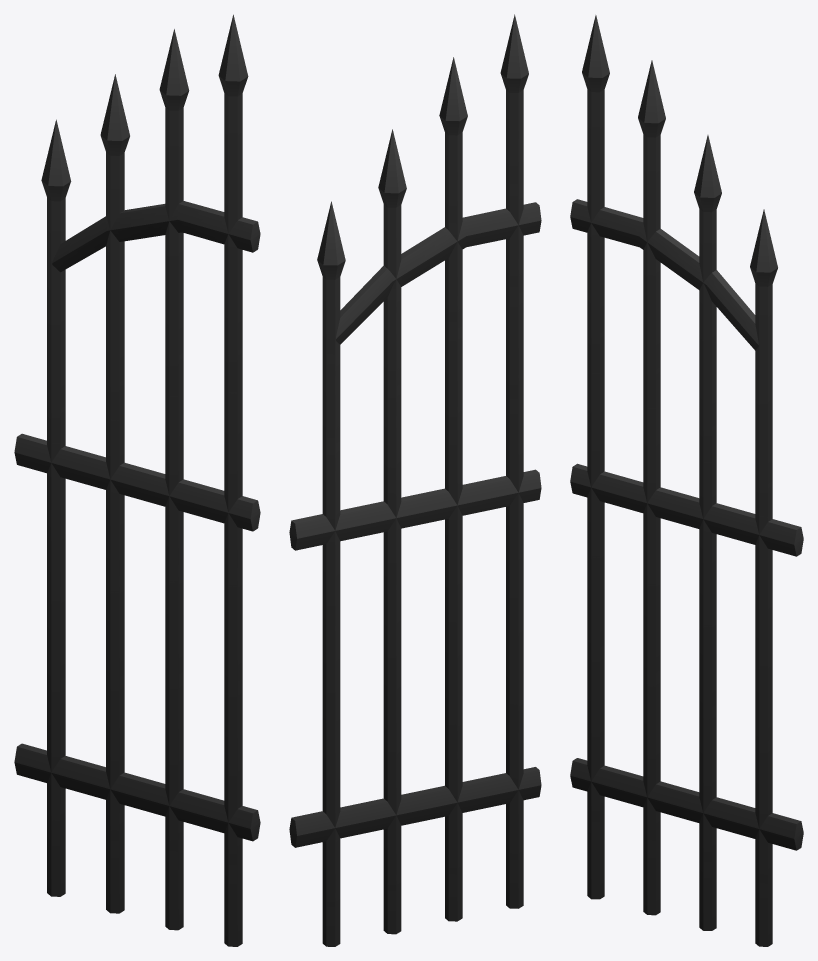
The model's file is fence_gate_left_lev1.glb.
3 views of the same model, side by side, from view 1: azimuth 90°, elevation 25°; view 2: azimuth 150°, elevation 25°; view 3: azimuth 270°, elevation 25° (orthographic). The views are drawn at different scales.
Parts seen in each view (by area): view 1: fence_gate_left_lev1; view 2: fence_gate_left_lev1; view 3: fence_gate_left_lev1.
Part boxes in pixels (x1,y1,x2,y2): fence_gate_left_lev1: [14, 14, 260, 946]; fence_gate_left_lev1: [289, 14, 541, 946]; fence_gate_left_lev1: [570, 15, 803, 946].
Bounding box in the file's own units: 2.86 × 16.98 × 4.08.
1 material, 1 textured.
